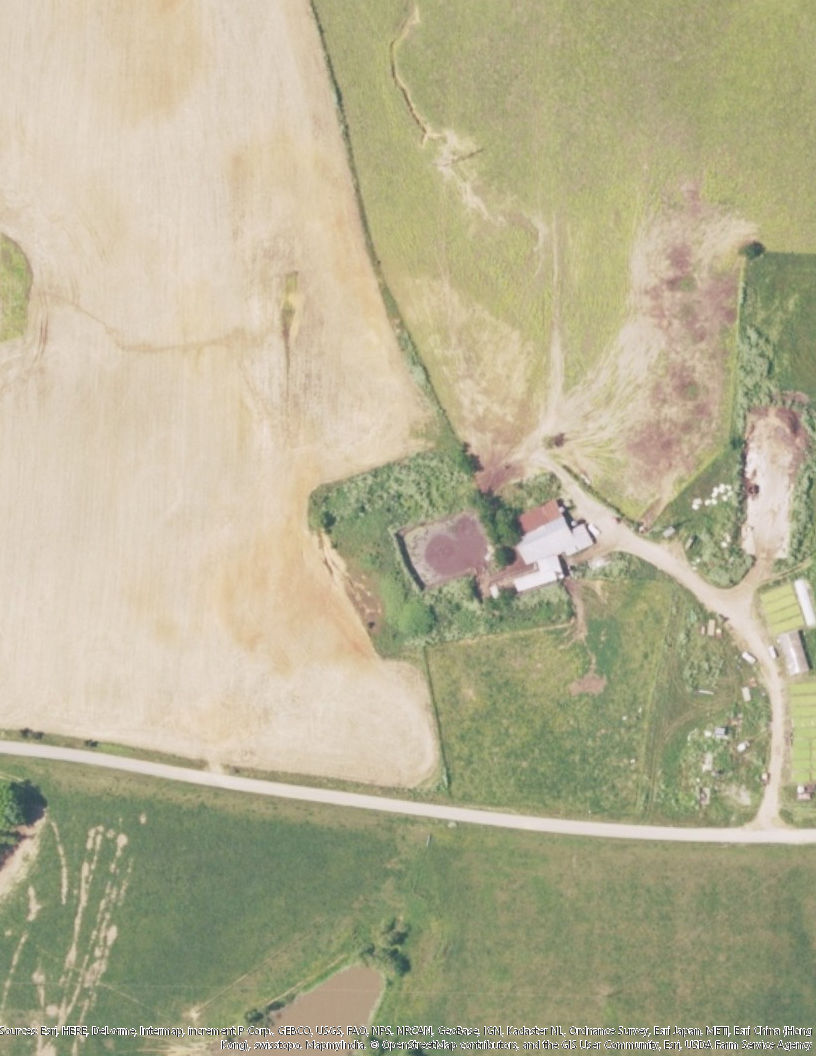cafo: (487, 505, 601, 603)
